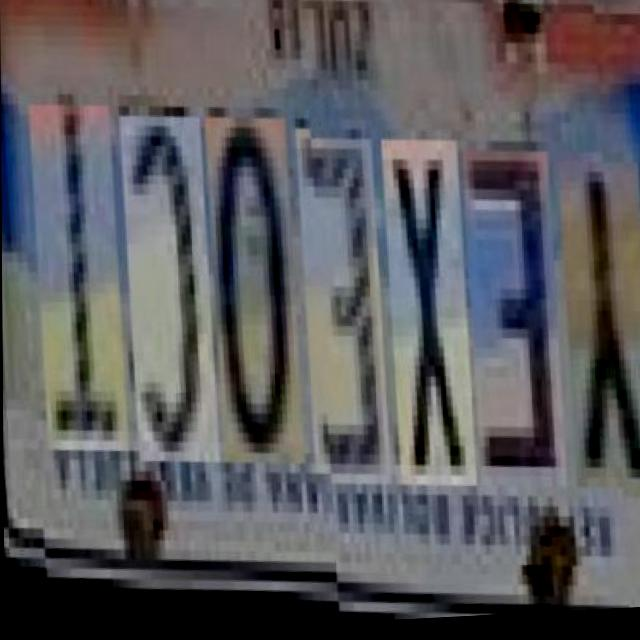c: (126, 130, 222, 484)
e: (467, 154, 569, 499), (301, 142, 392, 497)
o: (210, 131, 306, 486)
t: (34, 120, 130, 475)
x: (386, 143, 477, 498)
y: (562, 157, 640, 501)
